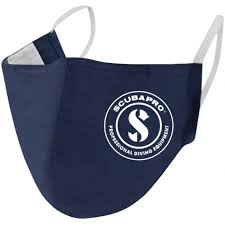FaceMask: (2, 29, 203, 219)
